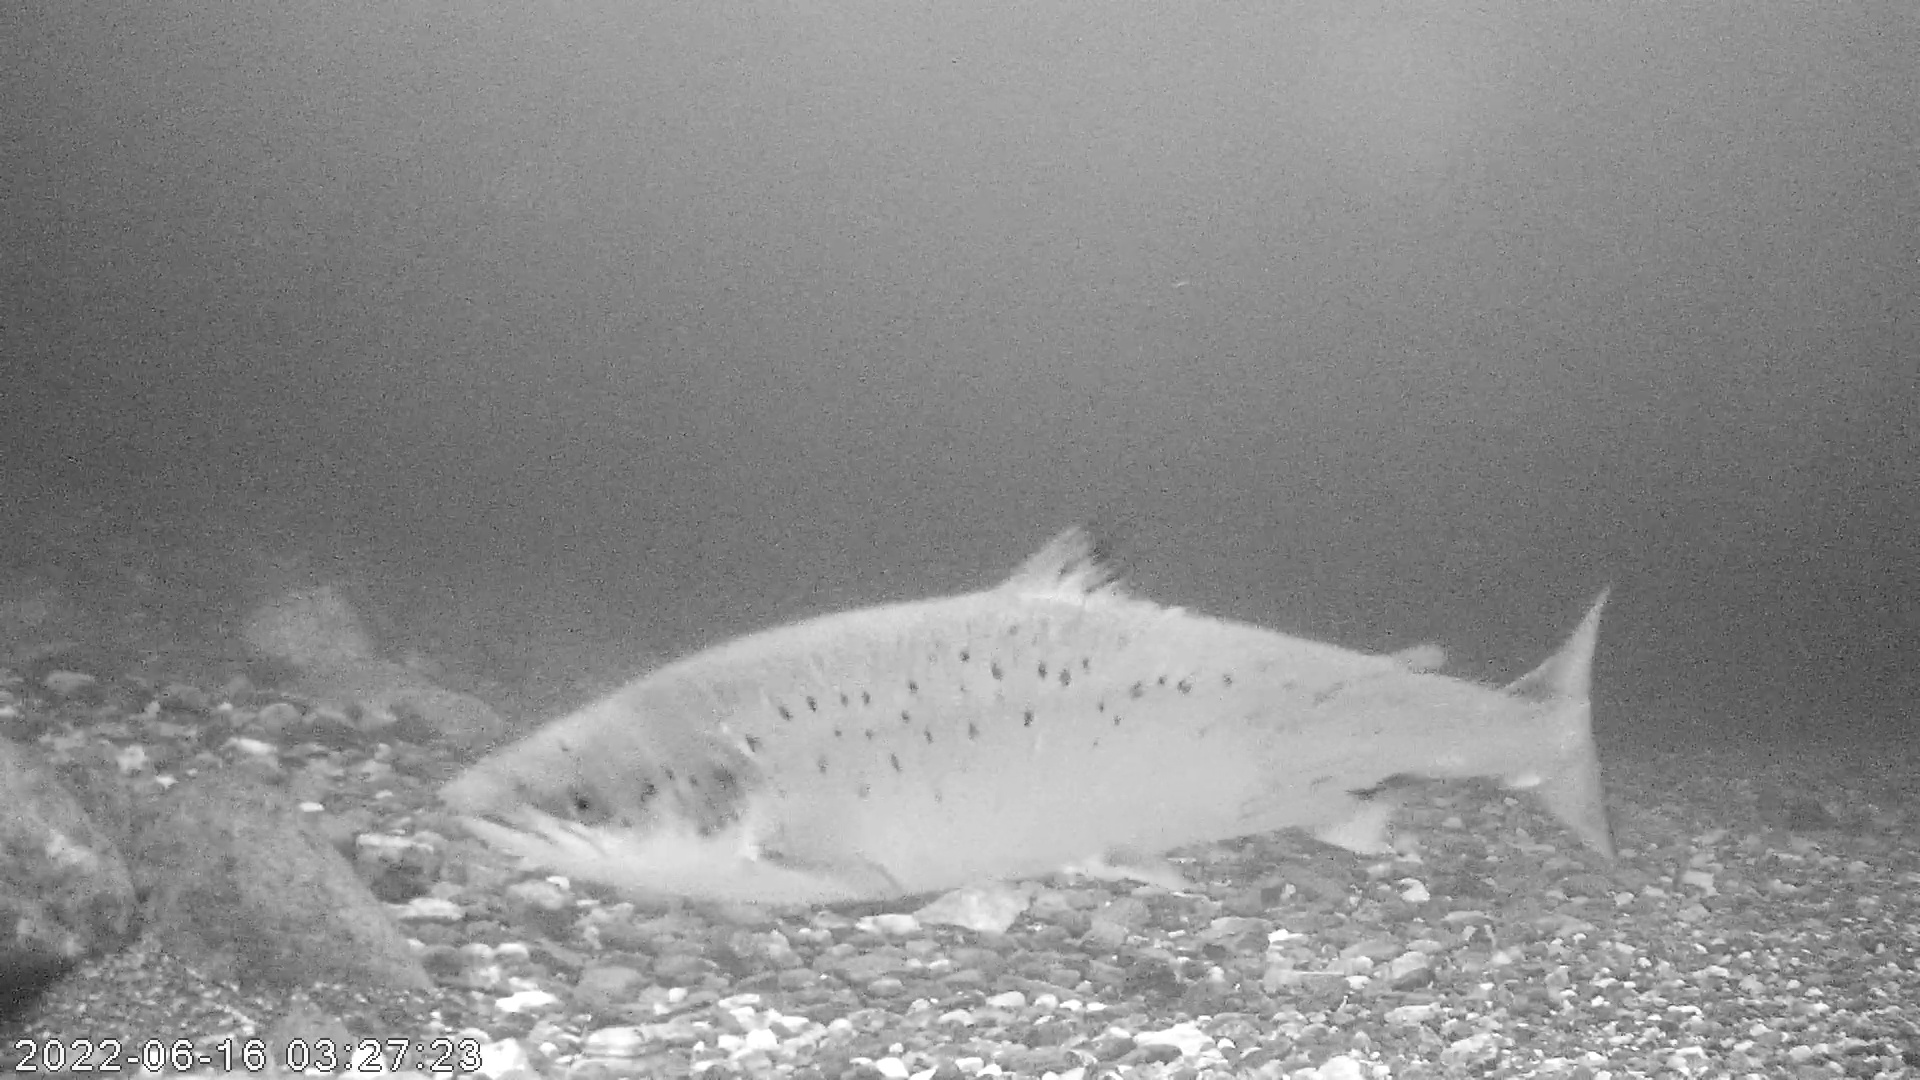salmon: (436, 522, 1621, 911)
